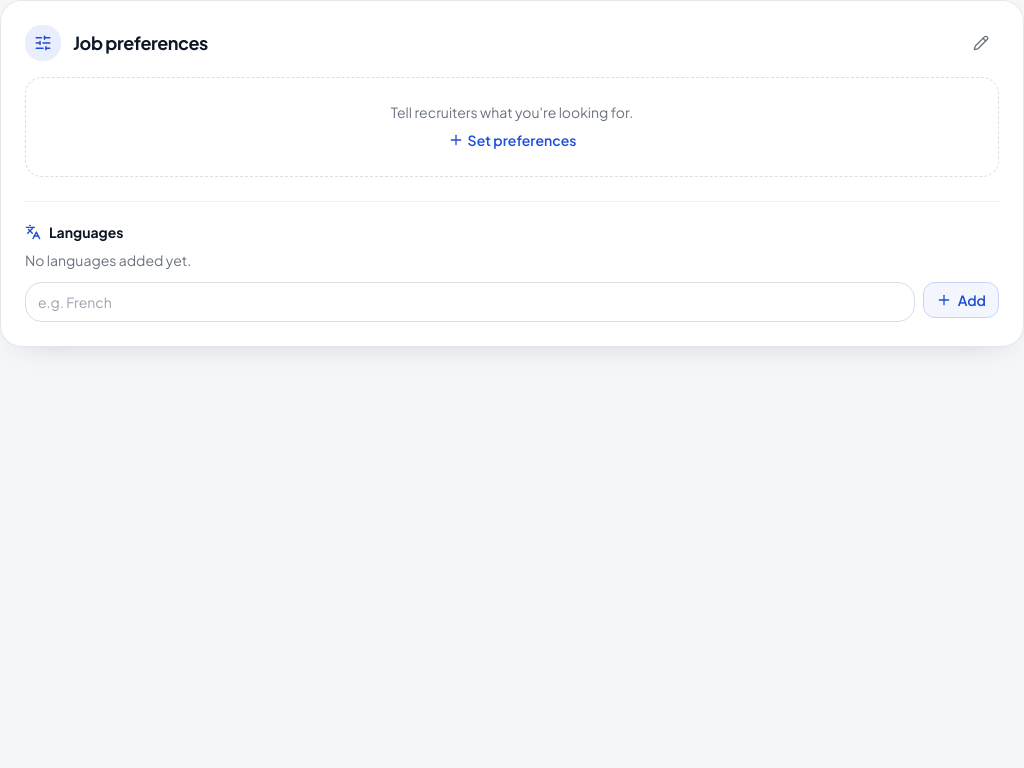
Test case: PreferencesSection › does not save an invalid salary
Click the button named "Edit preferences" at [981, 43], box [963,25,999,61]
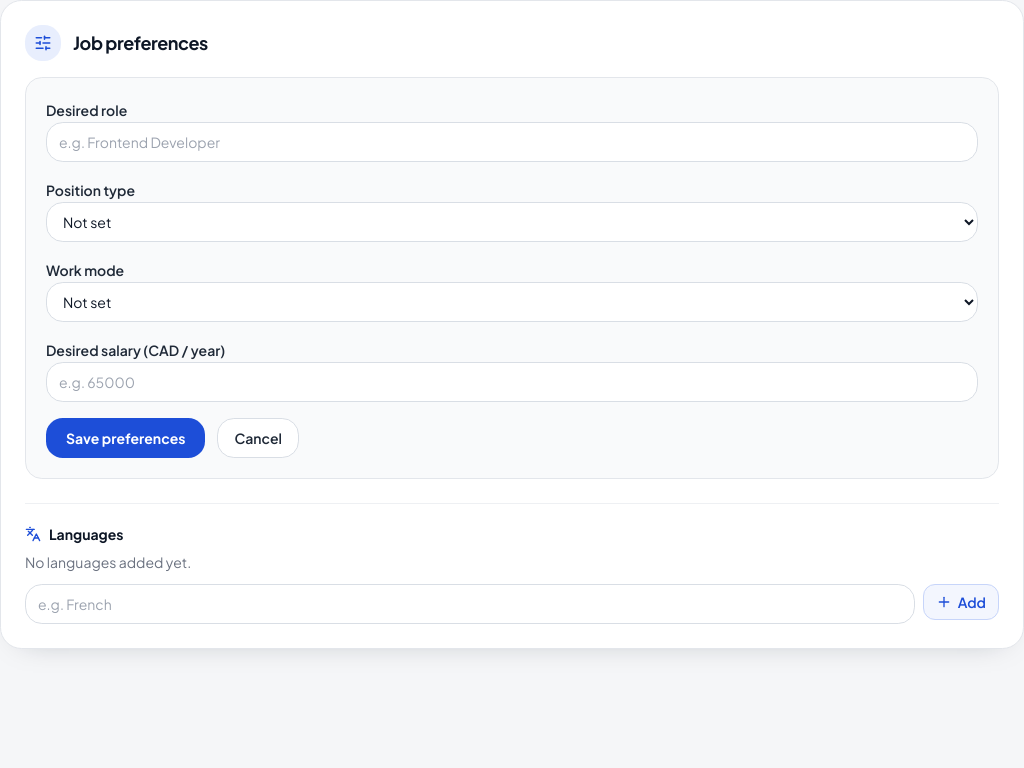
Type "lots" into the field labelled "Desired salary (CAD / year)" at [512, 382], box [46,362,978,402]
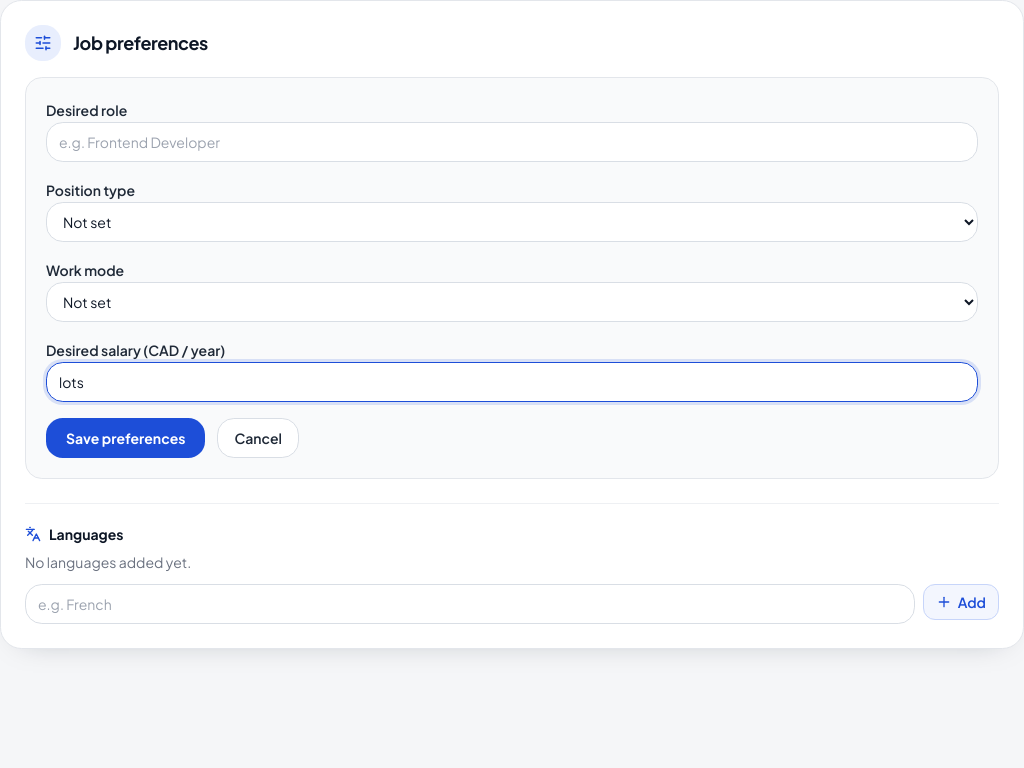
Click the button "Save preferences" at [126, 438], box [46,418,206,458]
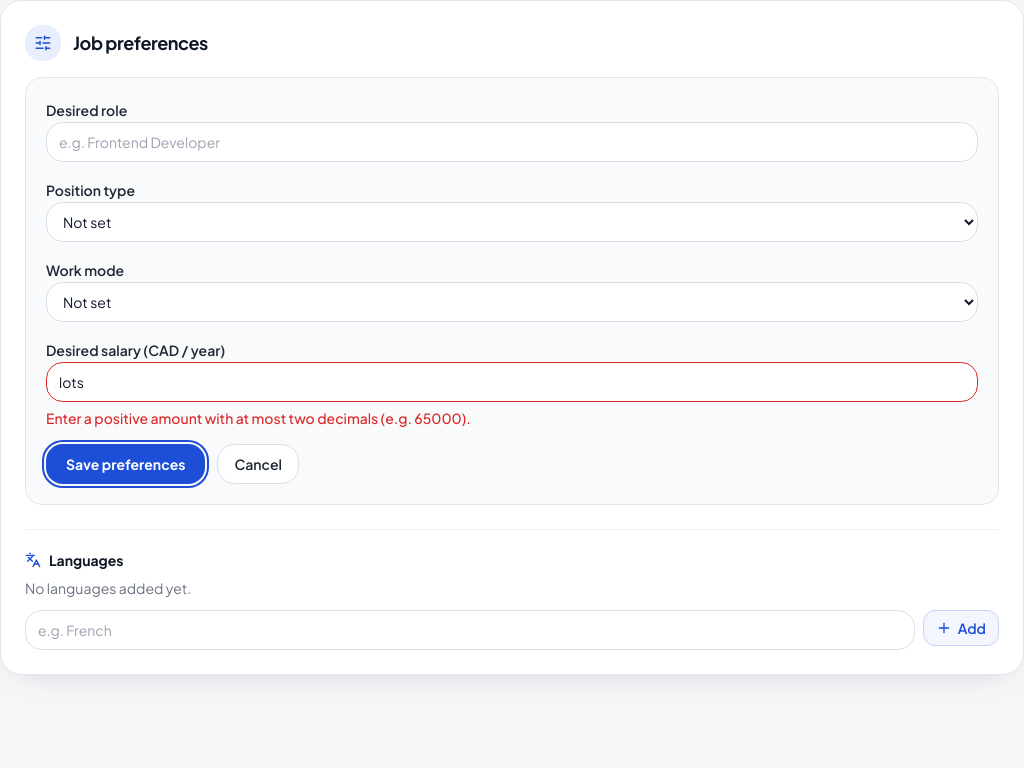
Check: the text "Enter a positive amount with at most two decimals (e.g. 65000)." is shown, box [46,409,471,427]
